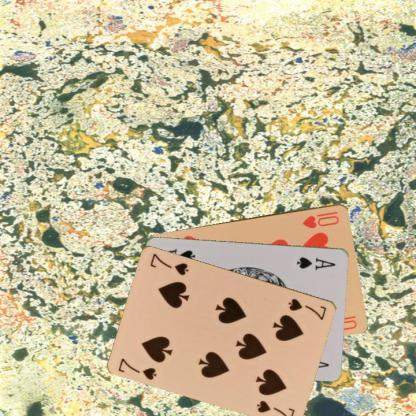10h: (300, 209, 341, 230)
7s: (116, 354, 158, 382), (286, 295, 328, 321)
As: (294, 254, 338, 270)
